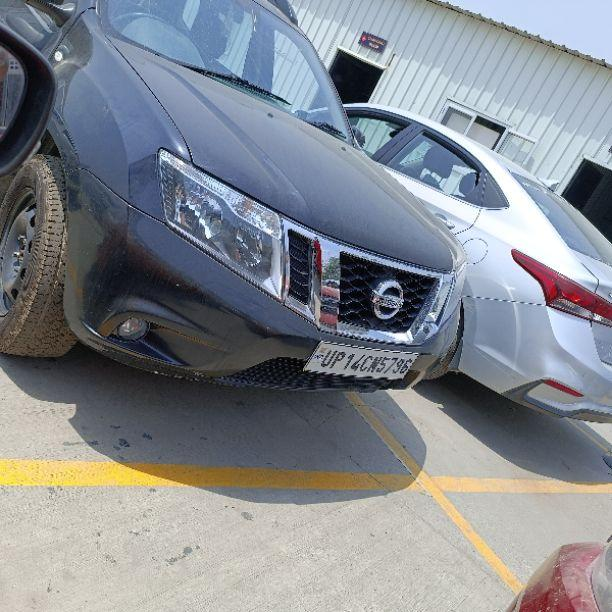license_plate: (301, 339, 421, 382)
